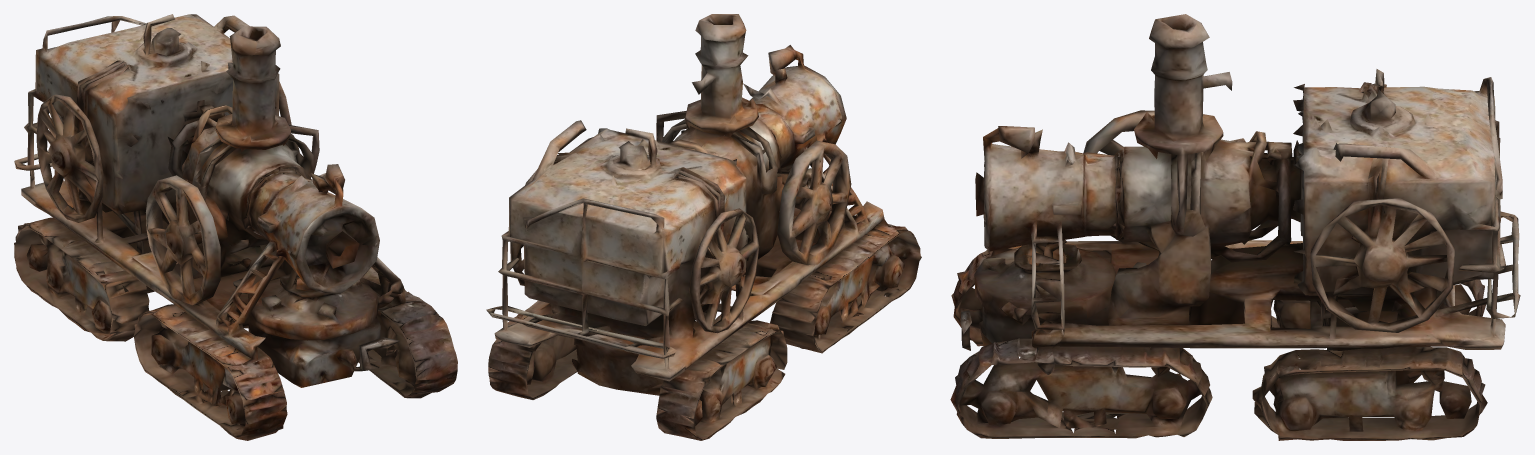
Rendered from tripo_convert_ead9cee9-4d27-4106-93f1-2ddc6aa3c351.fbx.
The picture shows the model from 3 angles, left to right: view 1: azimuth 30°, elevation 25°; view 2: azimuth 150°, elevation 25°; view 3: azimuth 270°, elevation 25°; orthographic projection. The views are drawn at different scales.
Visible parts, largest first — view 1: tripo_node_ead9cee9; view 2: tripo_node_ead9cee9; view 3: tripo_node_ead9cee9.
Boxes of the visible parts, x1,y1,x2,y2 form: tripo_node_ead9cee9: (14, 14, 457, 440); tripo_node_ead9cee9: (486, 14, 921, 440); tripo_node_ead9cee9: (950, 14, 1520, 440).
Size of the model in its own units: 0.5009 by 0.7048 by 1.
Materials: 1 (1 with a texture image).
